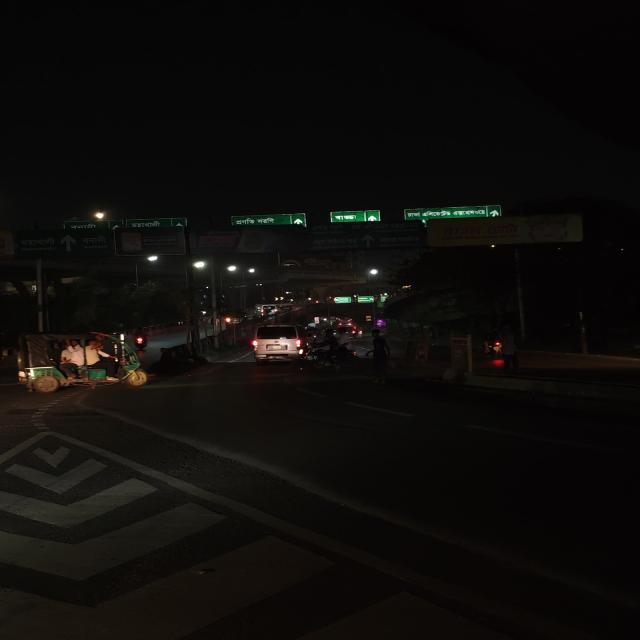car: (251, 321, 317, 361), (260, 304, 281, 316)
motorcycle: (293, 332, 359, 376), (477, 325, 504, 361), (131, 327, 152, 349)
pedestrian: (366, 329, 392, 386)
rickshaw: (15, 330, 154, 391)
